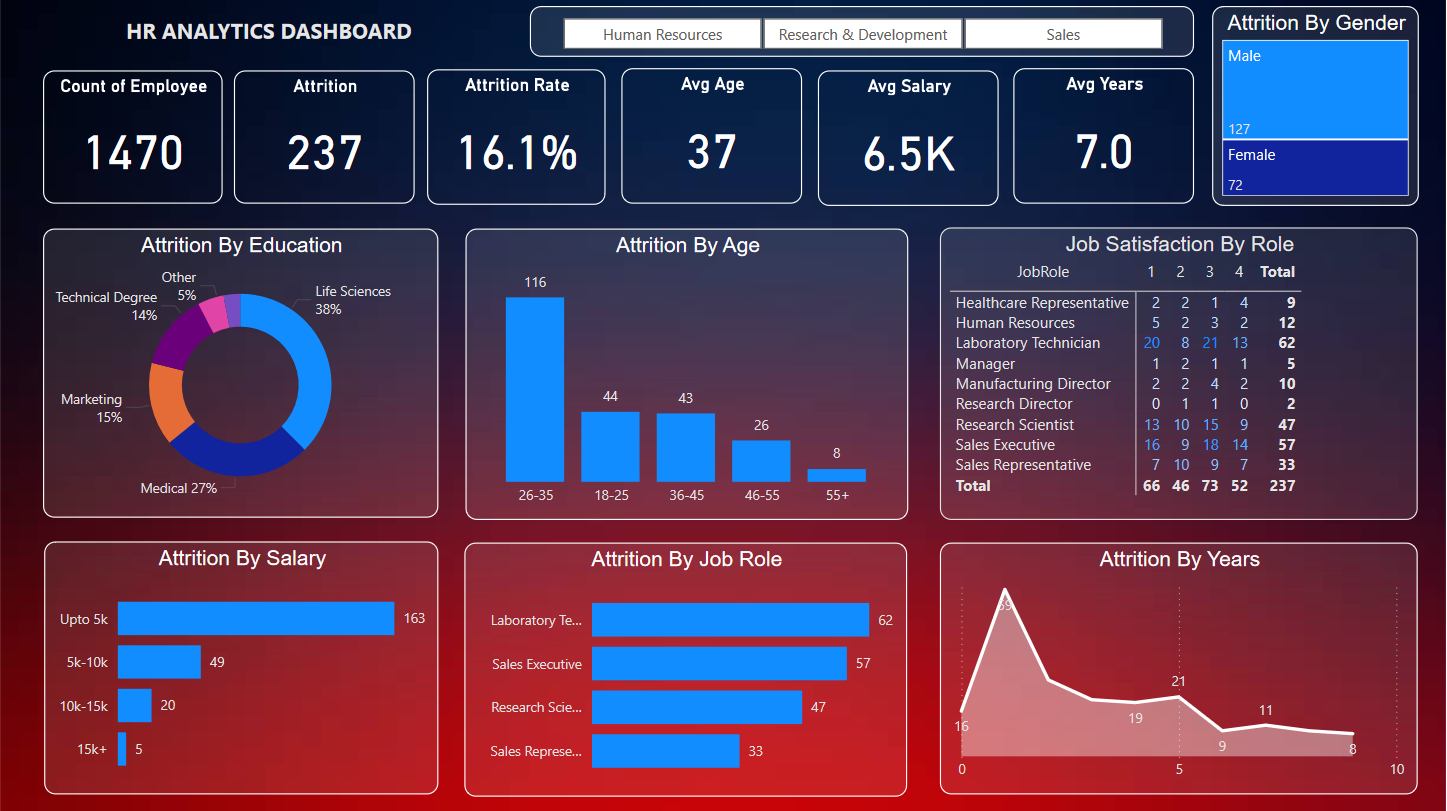

Layout of this report page (visuals, bound fields, positions):
{"tool":"powerbi","page":{"name":"HR Analytics","canvas":[1280,720],"ordinal":0},"visuals":[{"type":"card","title":"Count of Employee","fields":{"Values":["CountNonNull(HR_Analytics.EmpID)"]},"box":[38,64.1,159.2,118],"z":0},{"type":"card","title":"Attrition","fields":{"Values":["Sum(HR_Analytics.AttritionCount)"]},"box":[206.9,63.8,160,118.5],"z":1000},{"type":"card","title":"Attrition Rate","fields":{"Values":["HR_Analytics.AttritionRate"]},"box":[377.7,63.1,158.5,120],"z":2000},{"type":"card","title":"Avg Age","fields":{"Values":["Avg(HR_Analytics.Age)"]},"box":[550,62.2,160,120],"z":3000},{"type":"card","title":"Avg Salary","fields":{"Values":["Avg(HR_Analytics.MonthlyIncome)"]},"box":[723.6,63.6,160,120],"z":4000},{"type":"card","title":"Avg Years","fields":{"Values":["Avg(HR_Analytics.YearsAtCompany)"]},"box":[896.7,62.2,160,120],"z":5000},{"type":"donutChart","title":"Attrition By Education","fields":{"Category":["HR_Analytics.EducationField"],"Y":["Sum(HR_Analytics.AttritionCount)"]},"box":[38.3,204.2,349.2,255.8],"z":6000},{"type":"columnChart","title":"Attrition By Age","fields":{"Y":["Sum(HR_Analytics.AttritionCount)"],"Category":["HR_Analytics.AgeGroup"]},"box":[412,204,392,258],"z":7000},{"type":"pivotTable","title":"Job Satisfaction By Role","fields":{"Rows":["HR_Analytics.JobRole"],"Columns":["HR_Analytics.JobSatisfaction"],"Values":["Sum(HR_Analytics.AttritionCount)"]},"box":[831.7,203.3,423.3,258.3],"z":8000},{"type":"barChart","title":"Attrition By Salary","fields":{"Category":["HR_Analytics.SalarySlab"],"Y":["Sum(HR_Analytics.AttritionCount)"]},"box":[38.8,481.2,348.8,223.8],"z":9000},{"type":"clusteredBarChart","title":"Attrition By Job Role","fields":{"Category":["HR_Analytics.JobRole"],"Y":["Sum(HR_Analytics.AttritionCount)"]},"box":[411.1,482.2,392.2,224.4],"z":10000},{"type":"areaChart","title":"Attrition By Years","fields":{"Category":["HR_Analytics.YearsAtCompany"],"Y":["Sum(HR_Analytics.AttritionCount)"]},"box":[832,482,423,223],"z":11000},{"type":"treemap","title":"Attrition By Gender","fields":{"Group":["HR_Analytics.Gender"],"Values":["Sum(HR_Analytics.AttritionCount)"]},"box":[1073.3,6.7,182.2,177.2],"z":12000},{"type":"slicer","title":"Attrition By Age","fields":{"Values":["HR_Analytics.Department"]},"box":[469.5,6.8,587.4,45.3],"z":13000},{"type":"textbox","box":[14.4,10.6,447.5,36.9],"z":13001}]}

Visuals, with their boxes in screenshot pixels (x1, y1, x2, y2), scaled from the page's 1280x720 canvas onto the 1447x811 screenshot:
"Count of Employee" card: <box>43,72,223,205</box>
"Attrition" card: <box>234,72,415,205</box>
"Attrition Rate" card: <box>427,71,606,206</box>
"Avg Age" card: <box>622,70,803,205</box>
"Avg Salary" card: <box>818,72,999,207</box>
"Avg Years" card: <box>1014,70,1195,205</box>
"Attrition By Education" donutChart: <box>43,230,438,518</box>
"Attrition By Age" columnChart: <box>466,230,909,520</box>
"Job Satisfaction By Role" pivotTable: <box>940,229,1419,520</box>
"Attrition By Salary" barChart: <box>44,542,438,794</box>
"Attrition By Job Role" clusteredBarChart: <box>465,543,908,796</box>
"Attrition By Years" areaChart: <box>941,543,1419,794</box>
"Attrition By Gender" treemap: <box>1213,8,1419,207</box>
"Attrition By Age" slicer: <box>531,8,1195,59</box>
textbox: <box>16,12,522,54</box>
